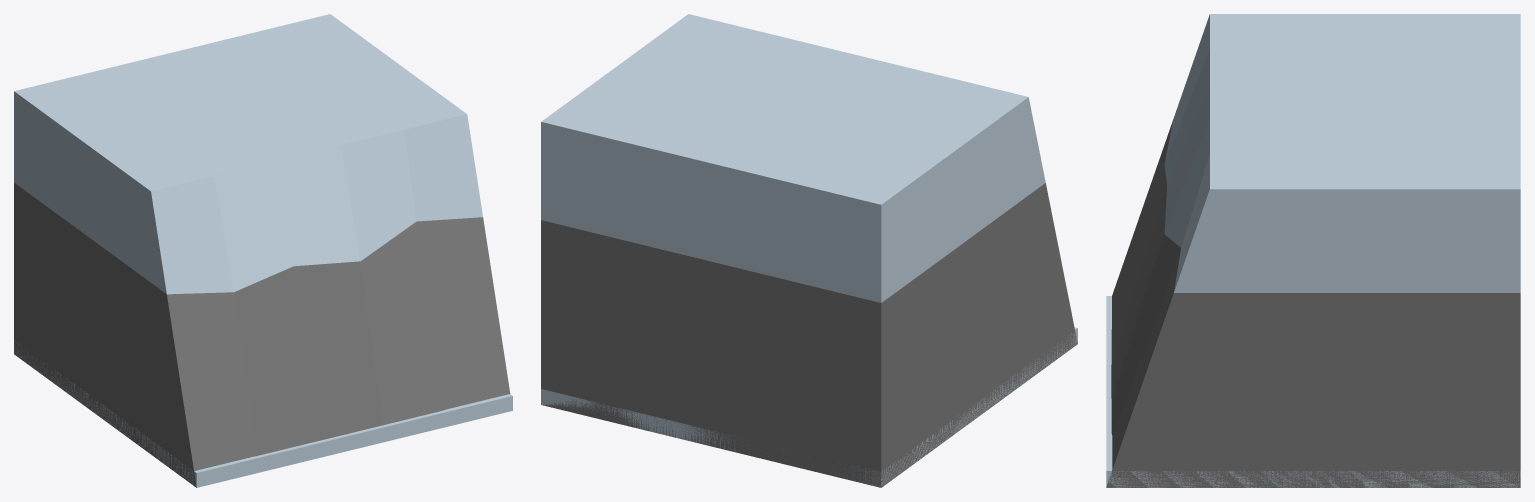
File: world25.fbx
3 renders of one model, left to right at view 1: azimuth 30°, elevation 25°; view 2: azimuth 150°, elevation 25°; view 3: azimuth 270°, elevation 25°, orthographic. The views are drawn at different scales.
Visible parts, largest first — view 1: Cube.134, Cube.142; view 2: Cube.134, Cube.142; view 3: Cube.134, Cube.142.
Boxes of the visible parts, x1,y1,x2,y2 form: Cube.134: (14, 14, 510, 487); Cube.142: (14, 340, 512, 487); Cube.134: (541, 14, 1077, 487); Cube.142: (541, 327, 1077, 487); Cube.134: (1106, 14, 1520, 487); Cube.142: (1106, 296, 1520, 487).
Bounding box in the file's own units: 400 × 318 × 400.
